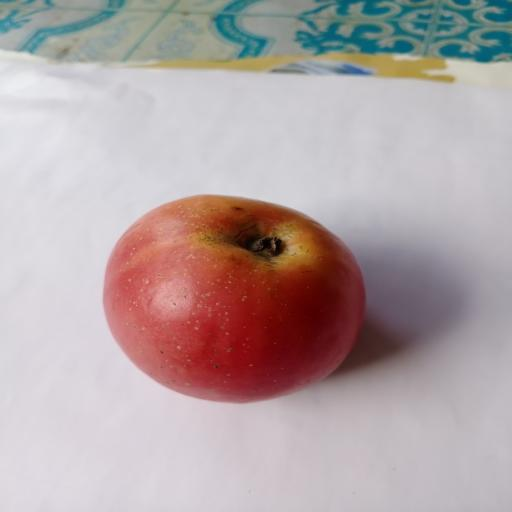apple-ripe: (95, 188, 375, 408)
